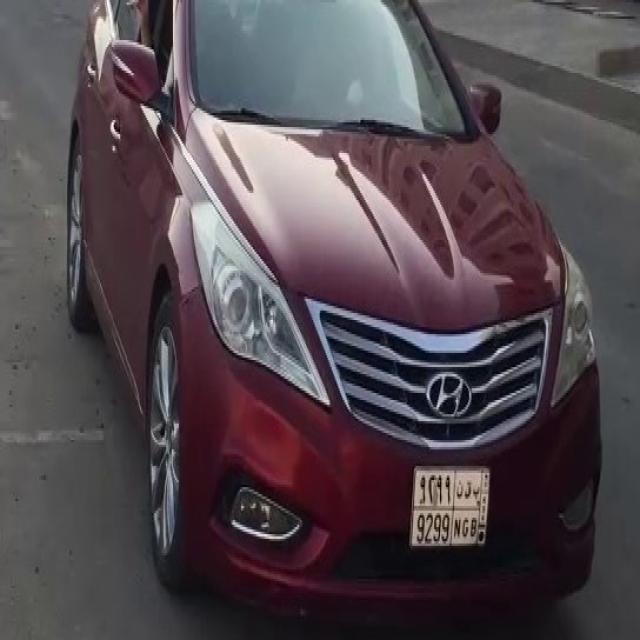Car-plate: (404, 455, 494, 557)
